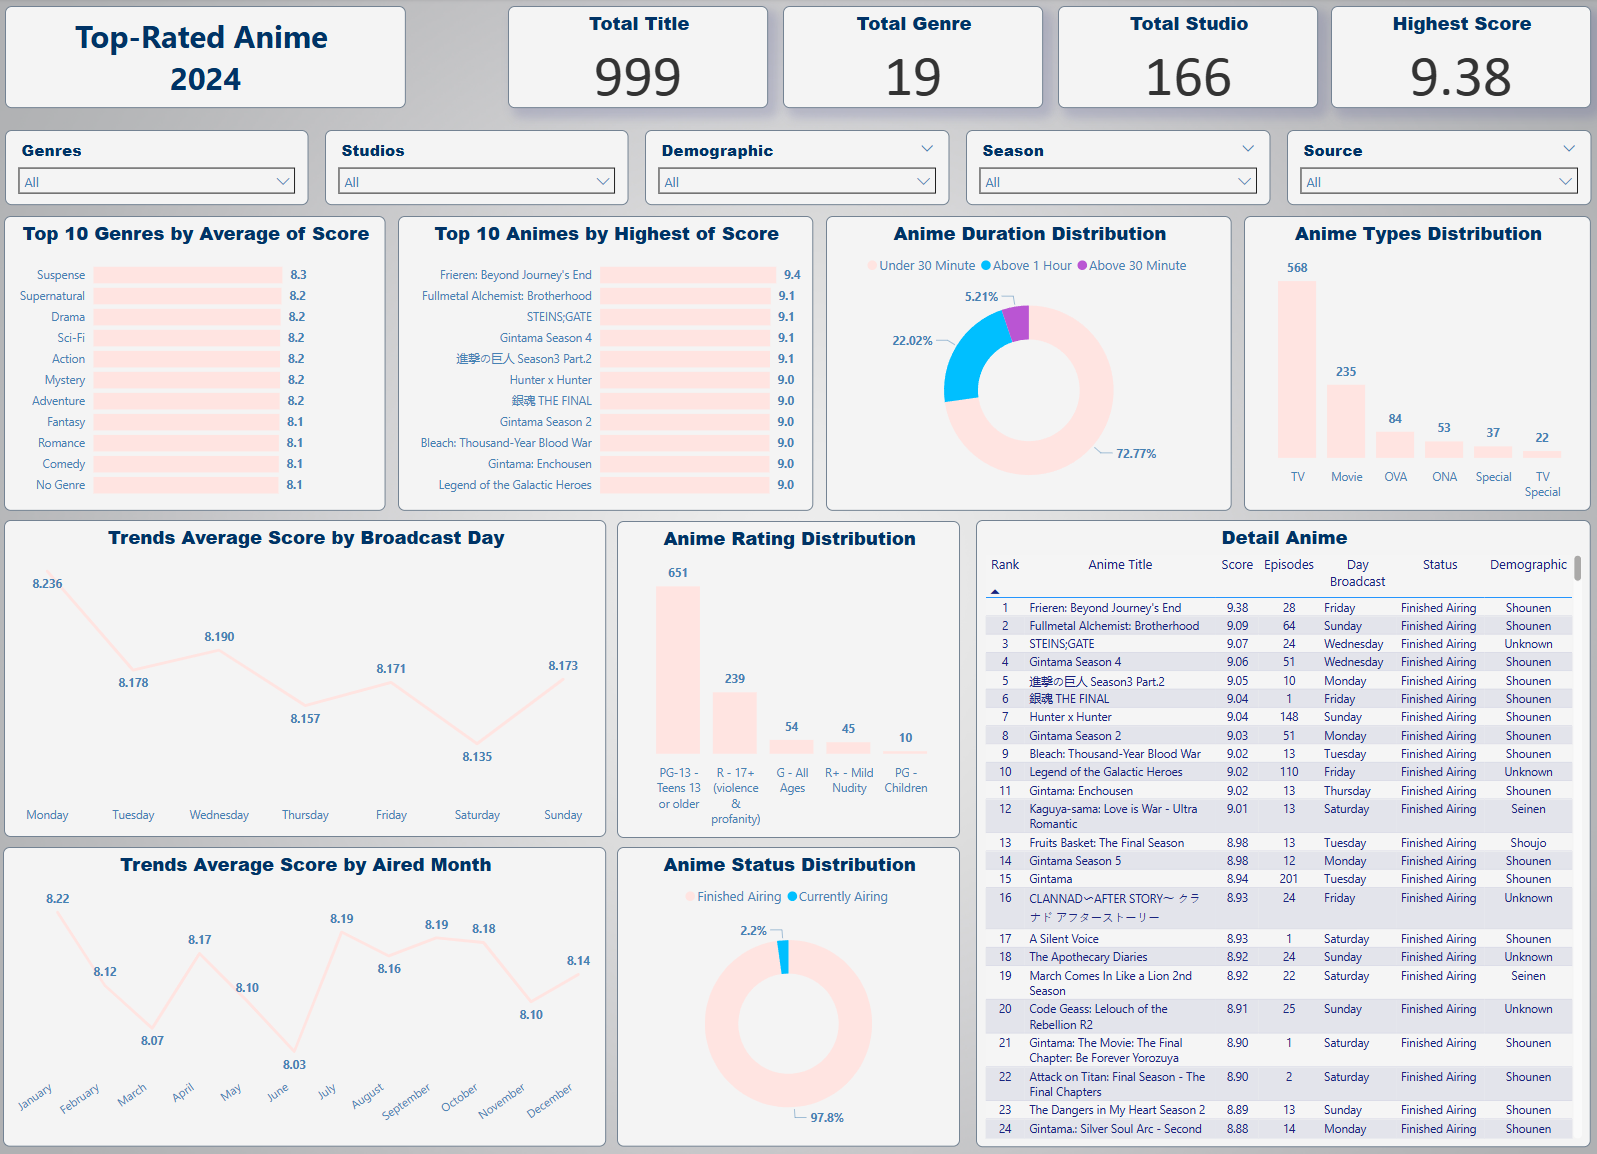

The page's visual inventory and layout, read from the dashboard file:
{"tool":"powerbi","page":{"name":"Page 1","canvas":[1664,1206],"ordinal":0},"visuals":[{"type":"textbox","box":[9.1,8.2,416.4,106.4],"z":0},{"type":"card","title":"Total Title","fields":{"Values":["Count(Top_Anime_data1.Title_Id)"]},"box":[531.8,8.3,270,106.4],"z":1000},{"type":"card","title":"Total Genre","fields":{"Values":["Count(Top_Anime_data1.Genres)"]},"box":[817.3,8.3,270,106.4],"z":2000},{"type":"card","title":"Total Studio","fields":{"Values":["Count(Top_Anime_data1.Studios)"]},"box":[1102.7,8.3,270,106.4],"z":3000},{"type":"card","title":"Highest Score","fields":{"Values":["Max(Top_Anime_data1.Score)"]},"box":[1385.5,8.3,270,106.4],"z":4000},{"type":"clusteredBarChart","title":"Top 10 Genres by Average of Score","fields":{"Category":["Top_Anime_data1.Genres"],"Y":["Avg(Top_Anime_data1.Score)"]},"box":[8.8,225.7,396.2,306.2],"z":5000},{"type":"clusteredBarChart","title":"Top 10 Animes by Highest of Score","fields":{"Y":["Max(Top_Anime_data1.Score)"],"Category":["Top_Anime_data1.Title"]},"box":[417.5,225.7,431.2,306.2],"z":6000},{"type":"slicer","fields":{"Values":["Top_Anime_data1.Genres"]},"box":[8.9,136.7,315,77.8],"z":7000},{"type":"slicer","fields":{"Values":["Top_Anime_data1.Studios"]},"box":[341.4,136.7,315,77.8],"z":8000},{"type":"slicer","fields":{"Values":["Top_Anime_data1.Demographic"]},"box":[673.9,136.7,315.6,77.8],"z":9000},{"type":"slicer","fields":{"Values":["Top_Anime_data1.Season"]},"box":[1006.9,136.7,315.6,77.8],"z":10000},{"type":"slicer","fields":{"Values":["Top_Anime_data1.Source"]},"box":[1340,136.7,315.6,77.8],"z":11000},{"type":"donutChart","title":"Anime Duration Distribution","fields":{"Category":["Top_Anime_data1.Duration_Category"],"Y":["Count(Top_Anime_data1.Title_Id)"]},"box":[861.2,225.7,421.2,306.2],"z":12000},{"type":"clusteredColumnChart","title":"Anime Types Distribution","fields":{"Category":["Top_Anime_data1.Type"],"Y":["Count(Top_Anime_data1.Title_Id)"]},"box":[1295,225.7,360,306.2],"z":13000},{"type":"lineChart","title":"Trends Average Score by Aired Month","fields":{"Y":["Avg(Top_Anime_data1.Score)"],"Category":["MonthTable.MonthName"]},"box":[7.5,881.2,626.2,311.2],"z":14000},{"type":"lineChart","title":"Trends Average Score by Broadcast Day","fields":{"Category":["DayTable.DayName"],"Y":["Avg(Top_Anime_data1.Score)"]},"box":[8.8,542,625,328.8],"z":15000},{"type":"clusteredColumnChart","title":"Anime Rating Distribution","fields":{"Y":["Count(Top_Anime_data1.Title_Id)"],"Category":["Top_Anime_data1.Rating"]},"box":[645,542.5,356.2,328.8],"z":16000},{"type":"donutChart","title":"Anime Status Distribution","fields":{"Y":["Count(Top_Anime_data1.Title_Id)"],"Category":["Top_Anime_data1.Status"]},"box":[645,881.2,356.2,311.2],"z":17000},{"type":"tableEx","title":"Detail Anime","fields":{"Values":["Top_Anime_data1.Rank","Top_Anime_data1.Title","Top_Anime_data1.Score","Top_Anime_data1.Episodes","Top_Anime_data1.Day_Broadcast","Top_Anime_data1.Status","Top_Anime_data1.Demographic"]},"box":[1017.1,541.8,638.3,650.7],"z":18000}]}

Visuals, with their boxes in screenshot pixels (x1, y1, x2, y2), scaled from the page's 1664x1206 canvas onto the 1597x1154 screenshot:
textbox: left=9, top=8, right=408, bottom=110
"Total Title" card: left=510, top=8, right=770, bottom=110
"Total Genre" card: left=784, top=8, right=1044, bottom=110
"Total Studio" card: left=1058, top=8, right=1317, bottom=110
"Highest Score" card: left=1330, top=8, right=1589, bottom=110
"Top 10 Genres by Average of Score" clusteredBarChart: left=8, top=216, right=389, bottom=509
"Top 10 Animes by Highest of Score" clusteredBarChart: left=401, top=216, right=815, bottom=509
slicer - Top_Anime_data1.Genres: left=9, top=131, right=311, bottom=205
slicer - Top_Anime_data1.Studios: left=328, top=131, right=630, bottom=205
slicer - Top_Anime_data1.Demographic: left=647, top=131, right=950, bottom=205
slicer - Top_Anime_data1.Season: left=966, top=131, right=1269, bottom=205
slicer - Top_Anime_data1.Source: left=1286, top=131, right=1589, bottom=205
"Anime Duration Distribution" donutChart: left=827, top=216, right=1231, bottom=509
"Anime Types Distribution" clusteredColumnChart: left=1243, top=216, right=1588, bottom=509
"Trends Average Score by Aired Month" lineChart: left=7, top=843, right=608, bottom=1141
"Trends Average Score by Broadcast Day" lineChart: left=8, top=519, right=608, bottom=833
"Anime Rating Distribution" clusteredColumnChart: left=619, top=519, right=961, bottom=834
"Anime Status Distribution" donutChart: left=619, top=843, right=961, bottom=1141
"Detail Anime" tableEx: left=976, top=518, right=1589, bottom=1141
